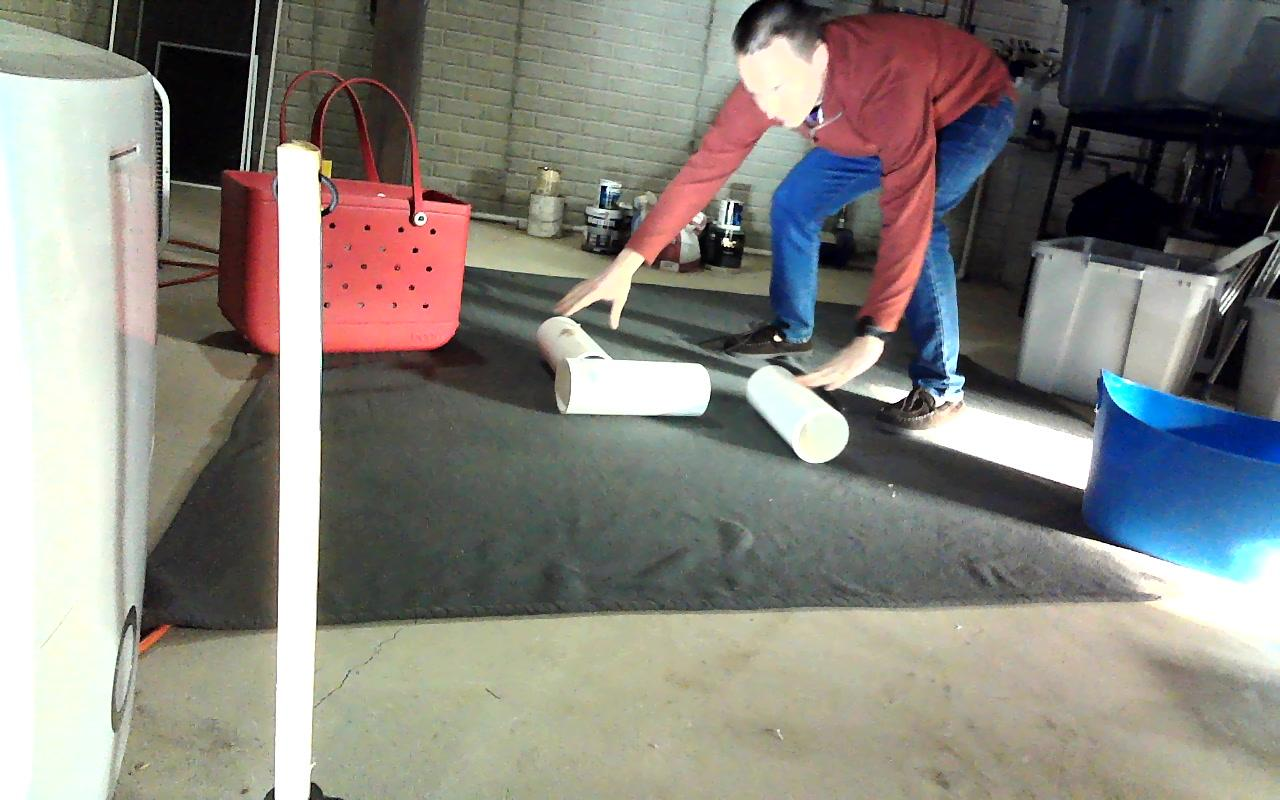coral: (747, 363, 848, 463), (549, 358, 710, 417), (538, 318, 612, 384)
